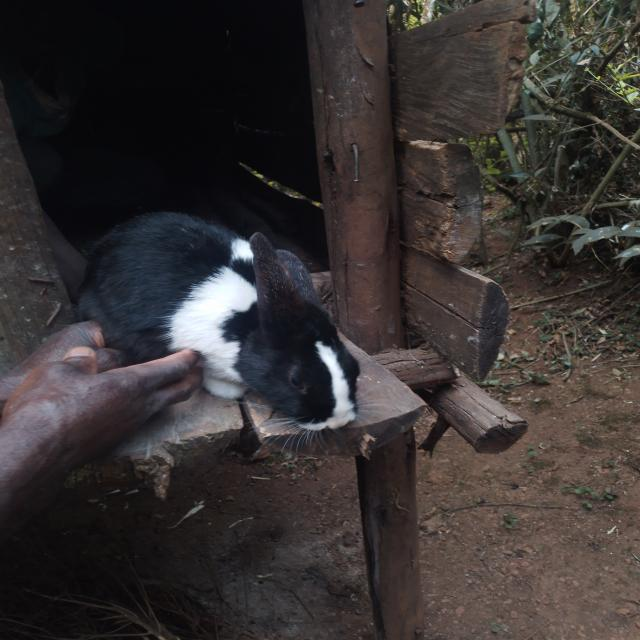rabbit: (12, 185, 425, 454)
